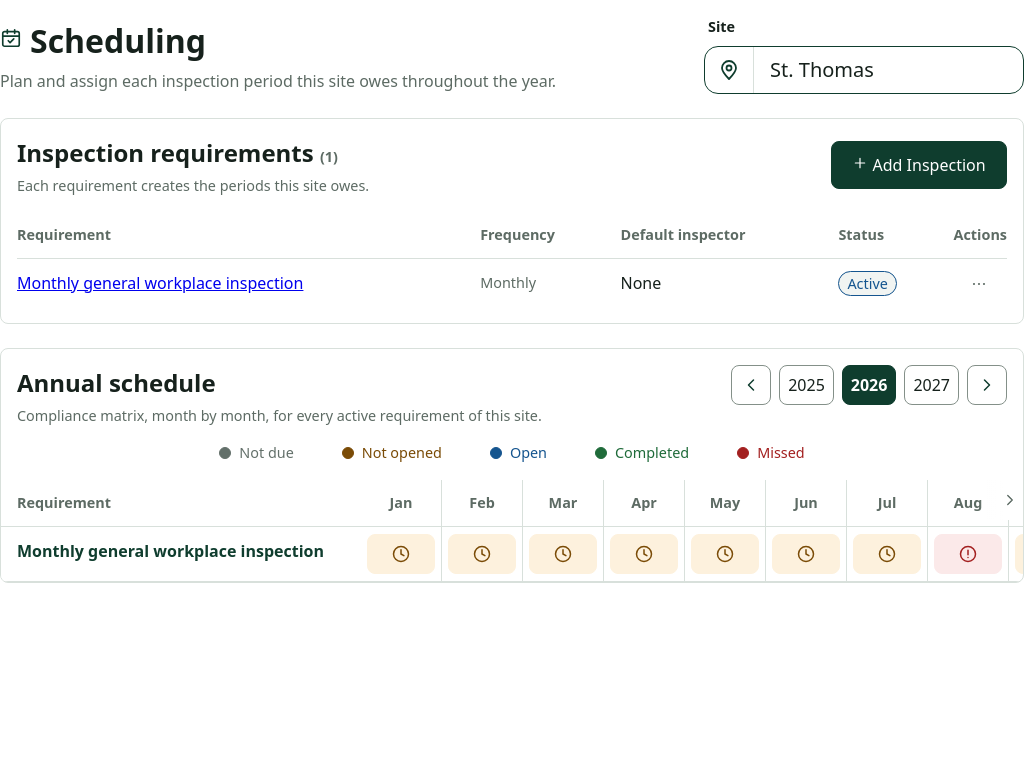
Test: detalle de periodo › el detalle de un periodo abierto solo informa
The width and height of the screenshot is (1024, 768).
Click the button named "August" at {"x": 968, "y": 554}, box [934,534,1002,574]
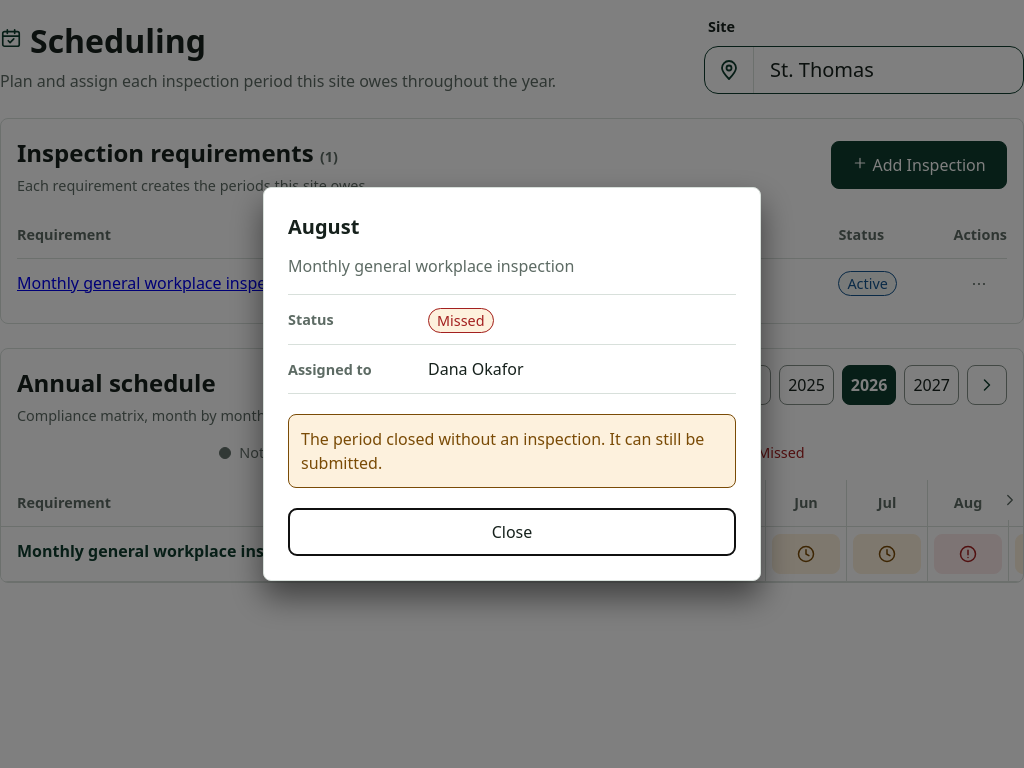
Now the text "Missed" is shown, box [428,308,494,333]
Now the text "Dana Okafor" is shown, box [428,358,524,380]
Now the text "can still be submitted" is shown, box [301,428,704,474]
